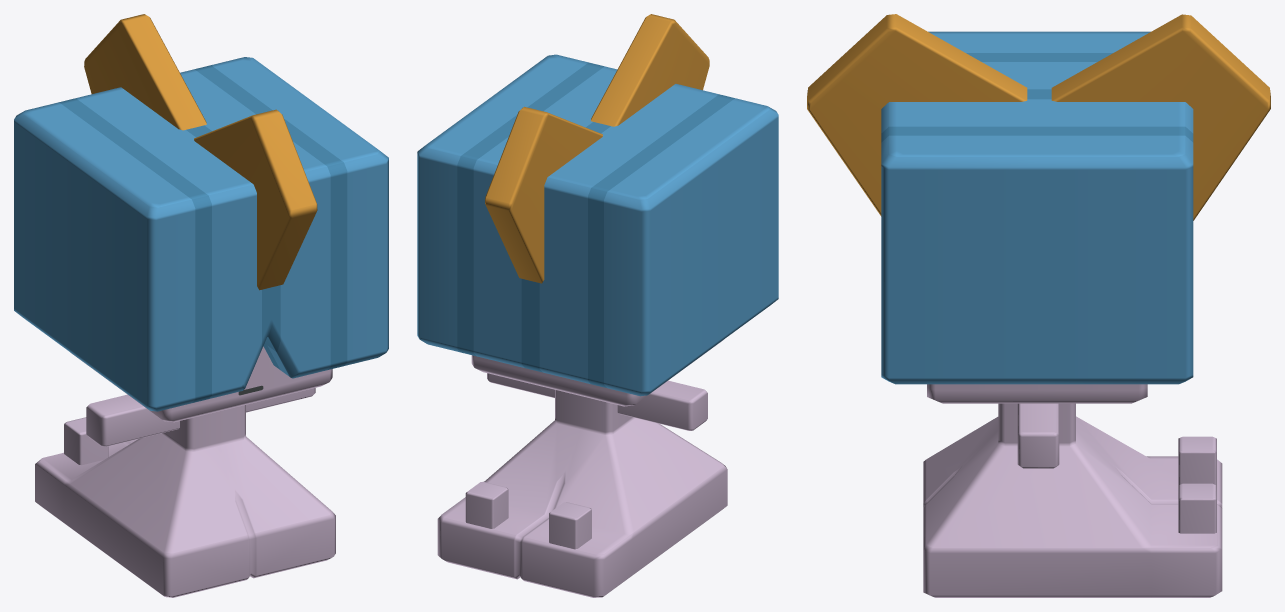
3 views of the same model, side by side, from view 1: azimuth 30°, elevation 25°; view 2: azimuth 150°, elevation 25°; view 3: azimuth 270°, elevation 25° (orthographic). The views are drawn at different scales.
Visible parts, largest first — view 1: model; view 2: model; view 3: model.
Part boxes in pixels (x1,y1,x2,y2): model: (14,14,388,597); model: (417,14,778,597); model: (807,14,1270,597).
Size of the model in its own units: 0.9254 by 1.74 by 1.38.
